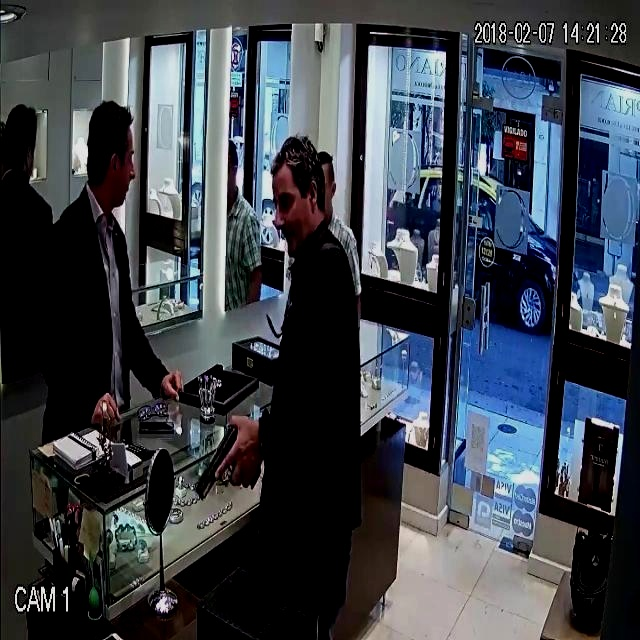gun: (180, 390, 271, 517)
